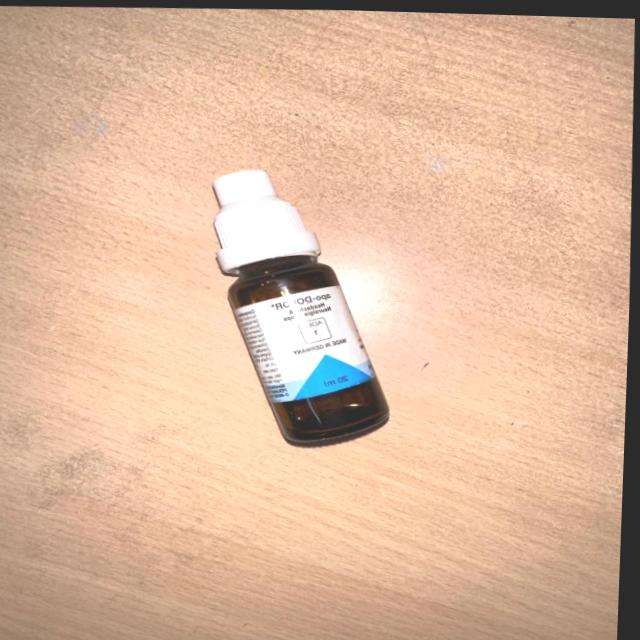medicine: (157, 149, 421, 462)
